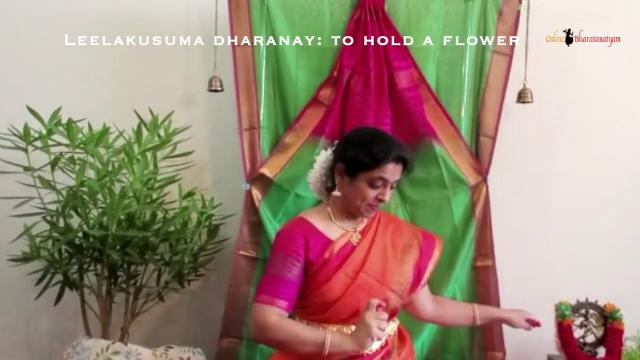kapitth: (349, 292, 399, 356)
